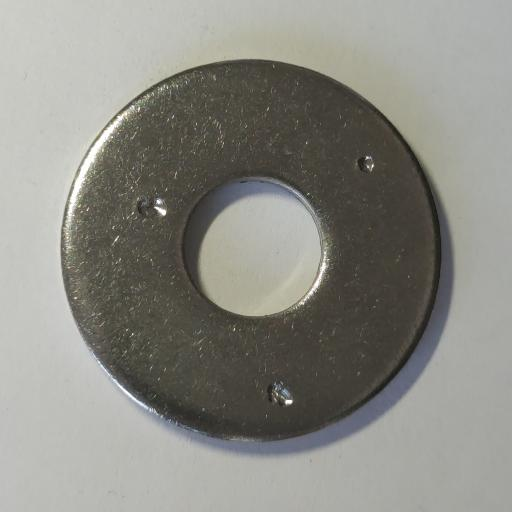circular_cavity: (136, 195, 168, 221), (268, 380, 293, 406), (357, 155, 375, 174)
